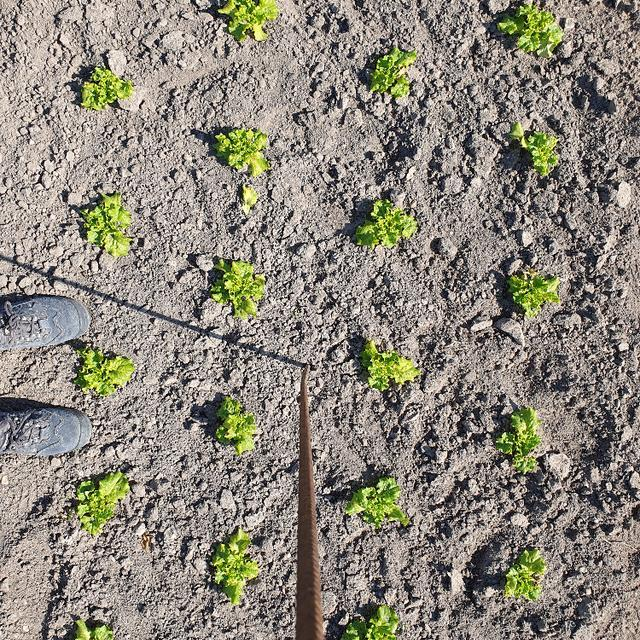Lettuce: (70, 468, 135, 537), (490, 0, 563, 61), (205, 530, 263, 605), (490, 398, 545, 474), (210, 253, 268, 325), (210, 528, 262, 608), (75, 190, 135, 257), (363, 40, 420, 110), (208, 124, 272, 184), (364, 340, 424, 402), (212, 395, 266, 462), (207, 258, 268, 317), (208, 395, 265, 458), (502, 265, 563, 323), (350, 477, 410, 535), (332, 595, 403, 640), (352, 202, 418, 250), (205, 0, 273, 46), (493, 545, 545, 602), (77, 348, 135, 397), (76, 62, 132, 112), (515, 118, 562, 177)
